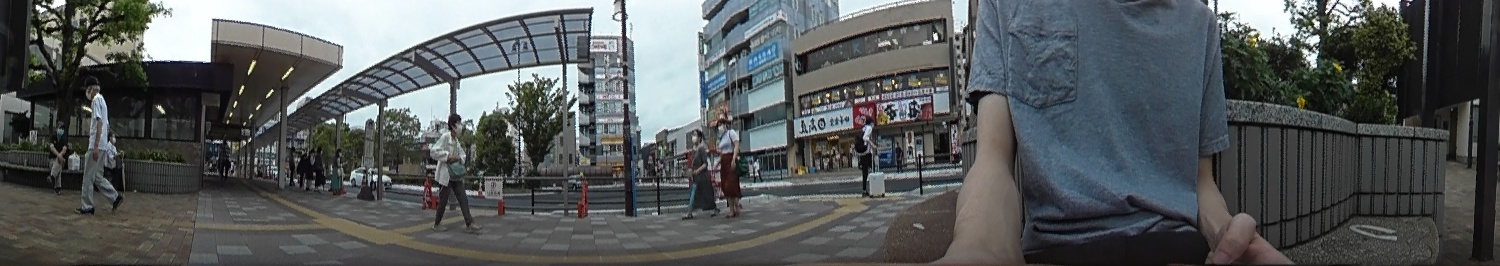difficult_person: (331, 145, 344, 194), (314, 145, 325, 194), (305, 148, 316, 189), (297, 151, 307, 189), (219, 140, 229, 176), (286, 146, 295, 186), (894, 140, 904, 170)
person: (435, 113, 479, 230), (81, 76, 116, 212), (712, 115, 744, 218), (685, 127, 719, 219), (45, 119, 69, 191), (853, 115, 874, 196), (105, 131, 120, 189)
